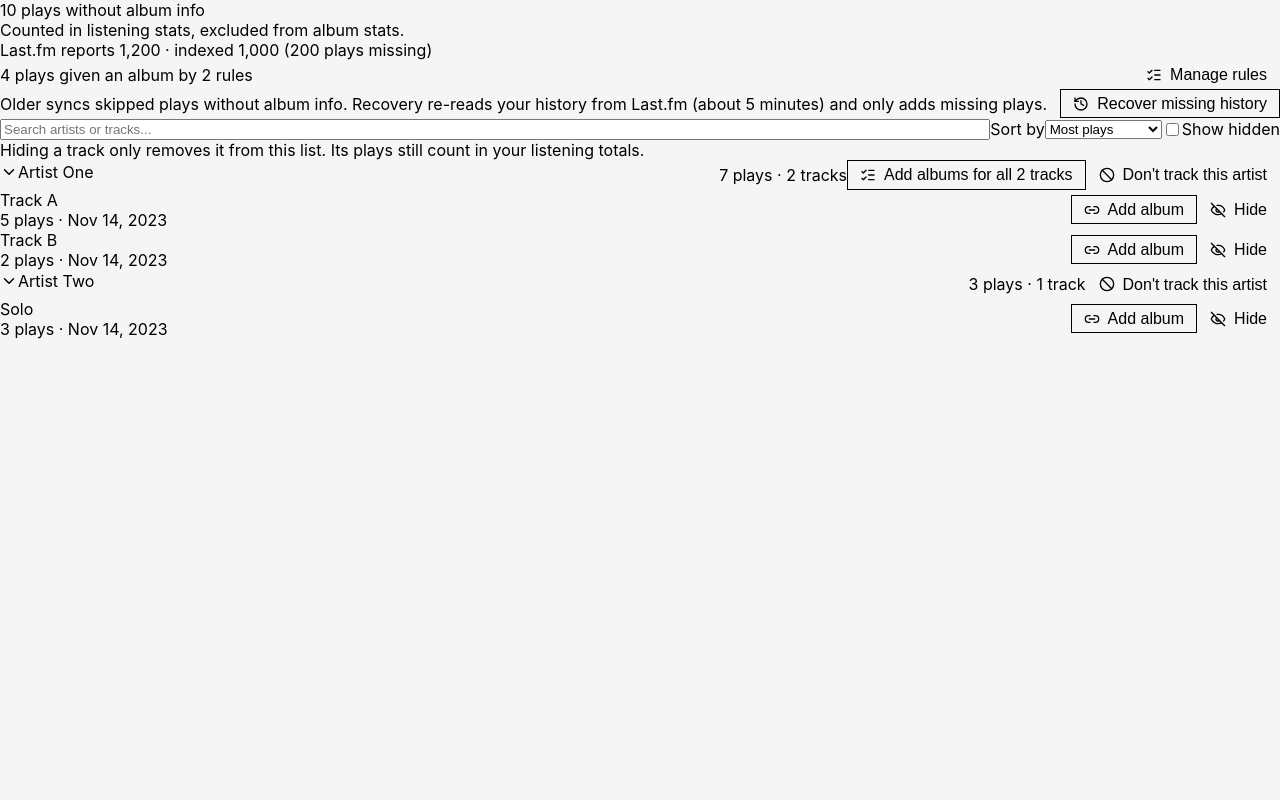
Scenario: UnresolvedHistoryTab › reports when Last.fm has no album
Click the button "Add album" in the row of "Solo".
click(1134, 319)  # box [1071,304,1197,333]
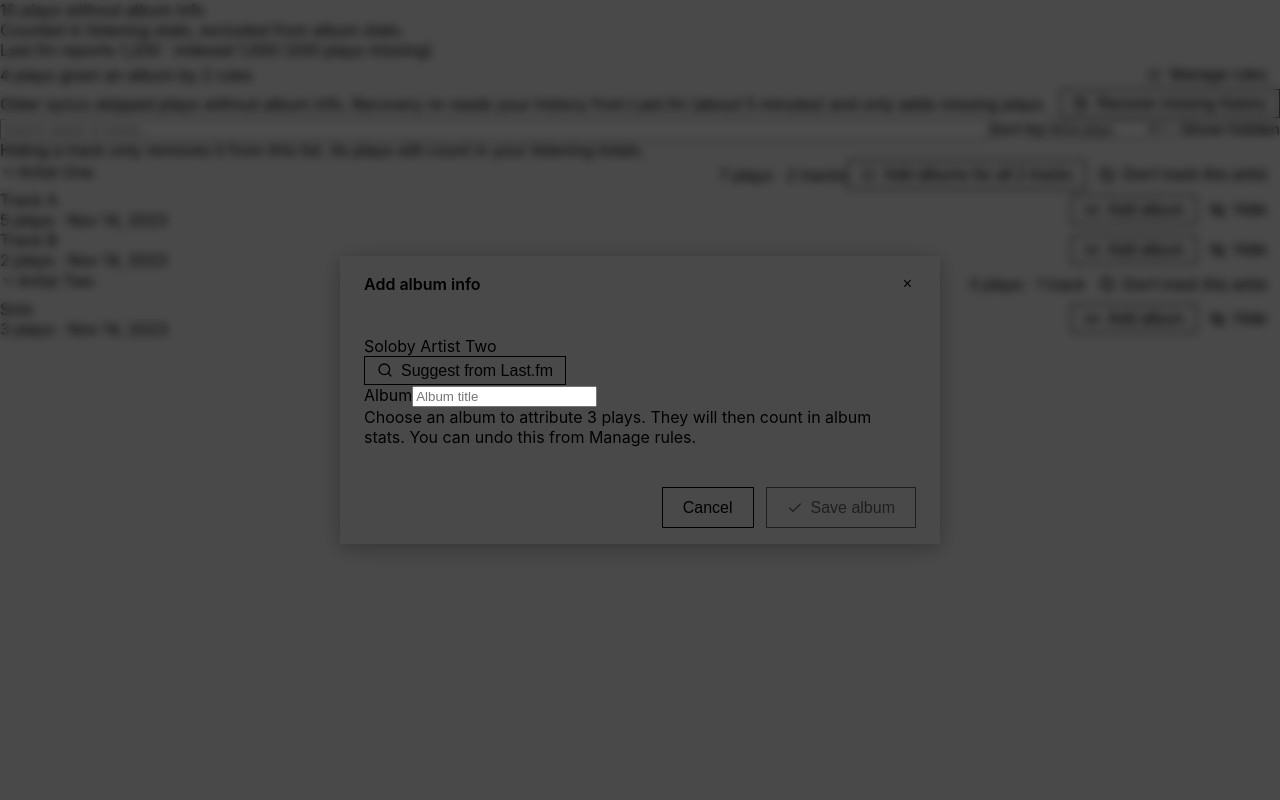
Click the button "Suggest from Last.fm".
click(465, 370)  # box [364,356,566,385]
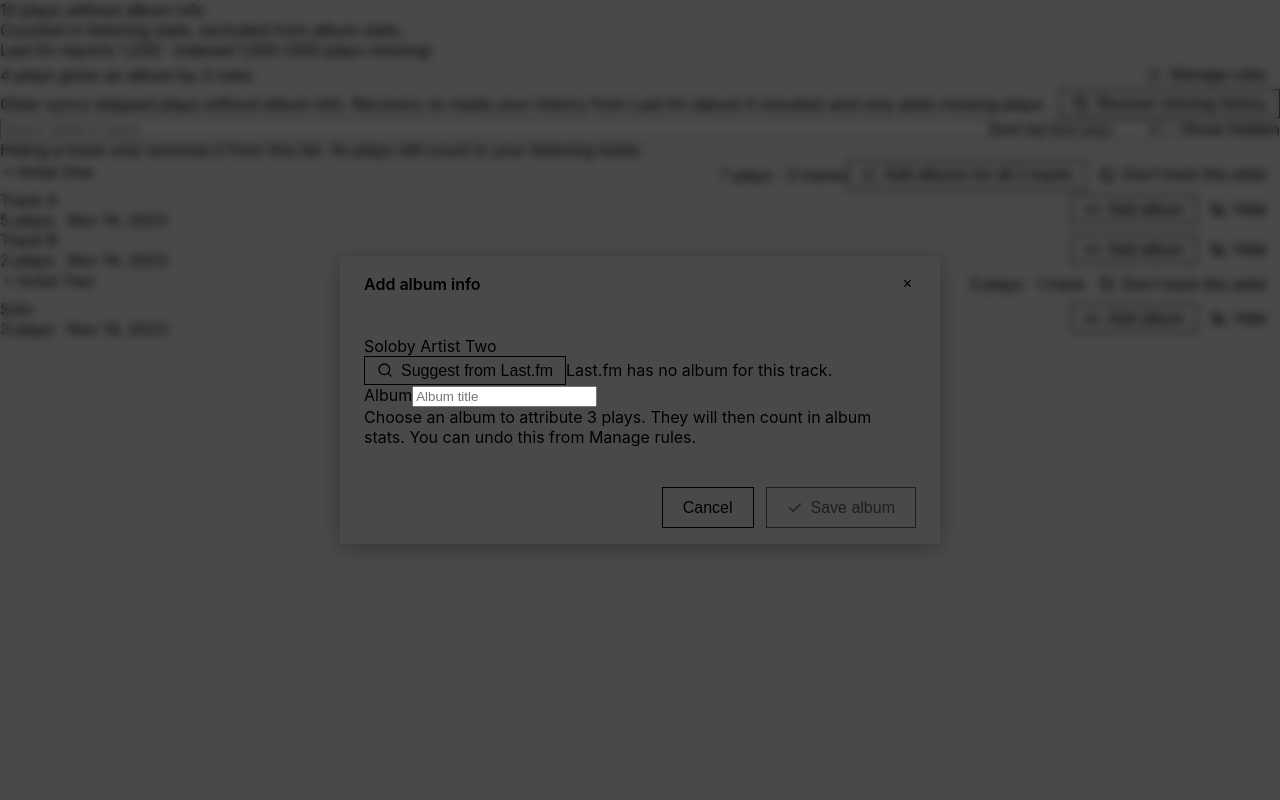
expect the text "Last.fm has no album for this track." is shown: met, box [566,360,832,380]
